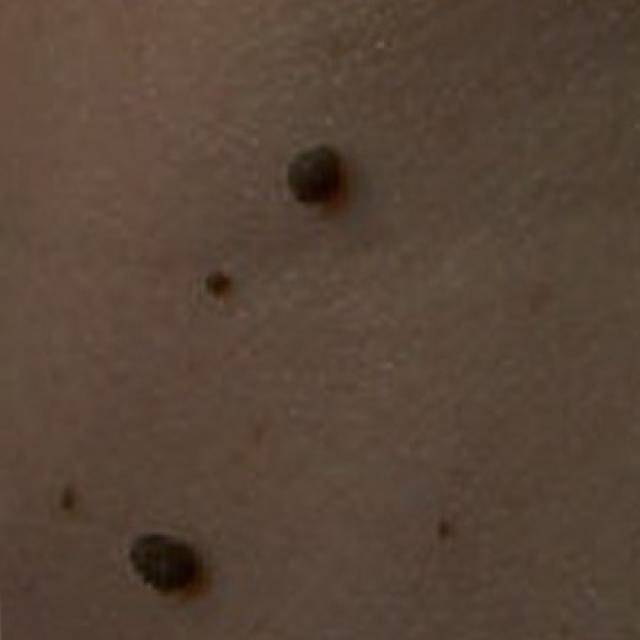wart: (110, 514, 231, 614), (262, 115, 372, 218), (183, 258, 270, 314)
